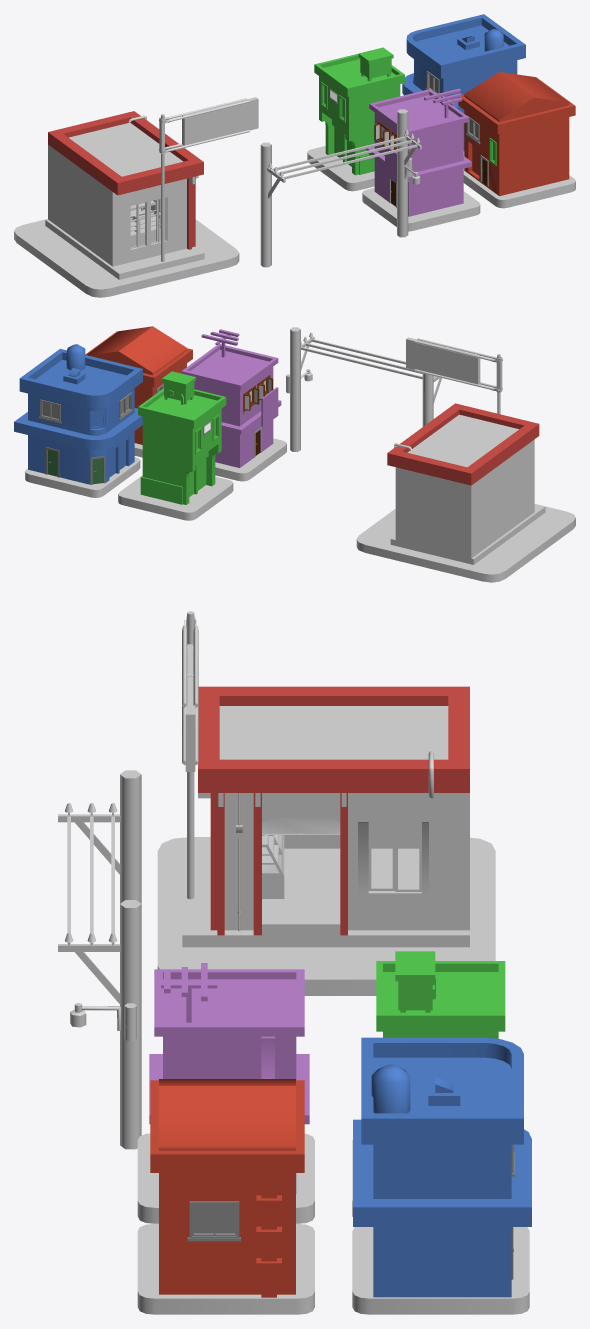
The model's file is santa_lucia_m.fbx.
3 views of the same model, one above another, from view 1: azimuth 30°, elevation 25°; view 2: azimuth 150°, elevation 25°; view 3: azimuth 270°, elevation 25° (orthographic). The views are drawn at different scales.
Visible parts, largest first — view 1: santa_lucia_m; view 2: santa_lucia_m; view 3: santa_lucia_m.
Boxes of the visible parts, x1,y1,x2,y2 form: santa_lucia_m: (14, 14, 575, 297); santa_lucia_m: (14, 326, 575, 582); santa_lucia_m: (58, 611, 531, 1314).
Size of the model in its own units: 3088 by 993 by 1336.
